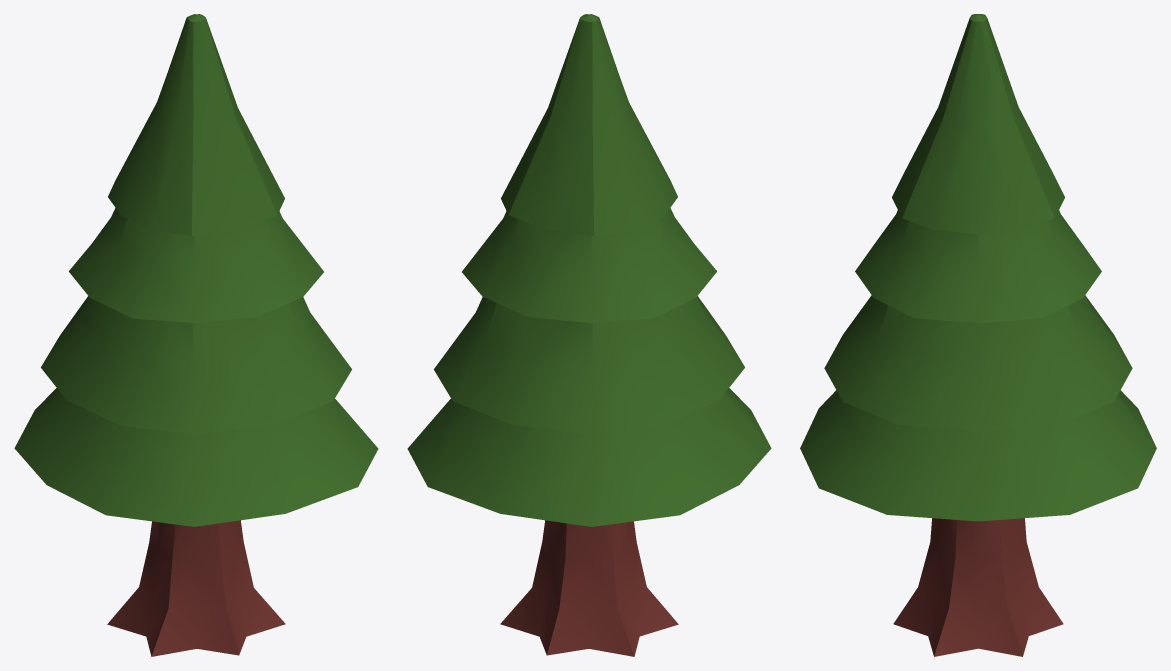
The model's file is VR.fbx_arbol_oscuro.fbx.
The picture shows the model from 3 angles, left to right: view 1: azimuth 30°, elevation 25°; view 2: azimuth 150°, elevation 25°; view 3: azimuth 270°, elevation 25°; orthographic projection.
Parts seen in each view (by area): view 1: arbol oscuro; view 2: arbol oscuro; view 3: arbol oscuro.
Boxes of the visible parts, x1=… form: arbol oscuro: x1=14, y1=14, x2=378, y2=656; arbol oscuro: x1=407, y1=14, x2=771, y2=656; arbol oscuro: x1=800, y1=14, x2=1156, y2=656.
Size of the model in its own units: 128 by 248 by 132.
